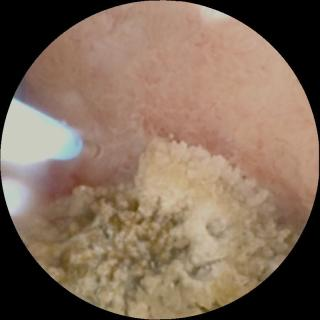fiber: (3, 99, 80, 157)
stone: (20, 139, 293, 311)
tissue: (26, 4, 316, 212)
